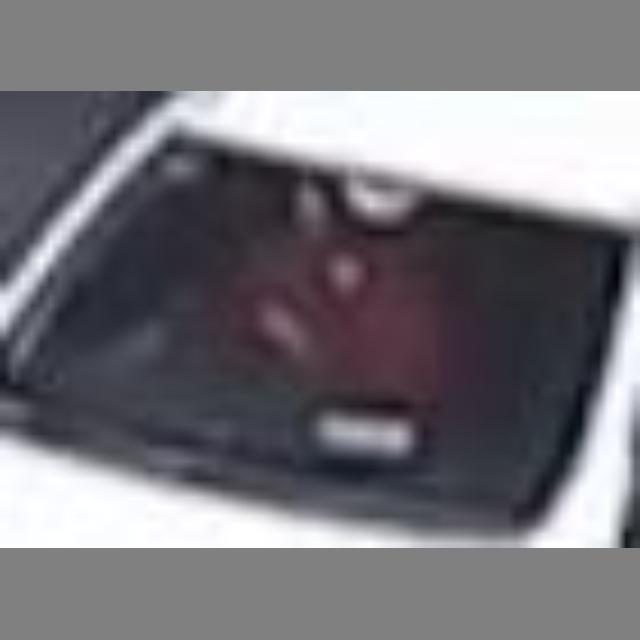tidak-pakai: (219, 182, 393, 448)
